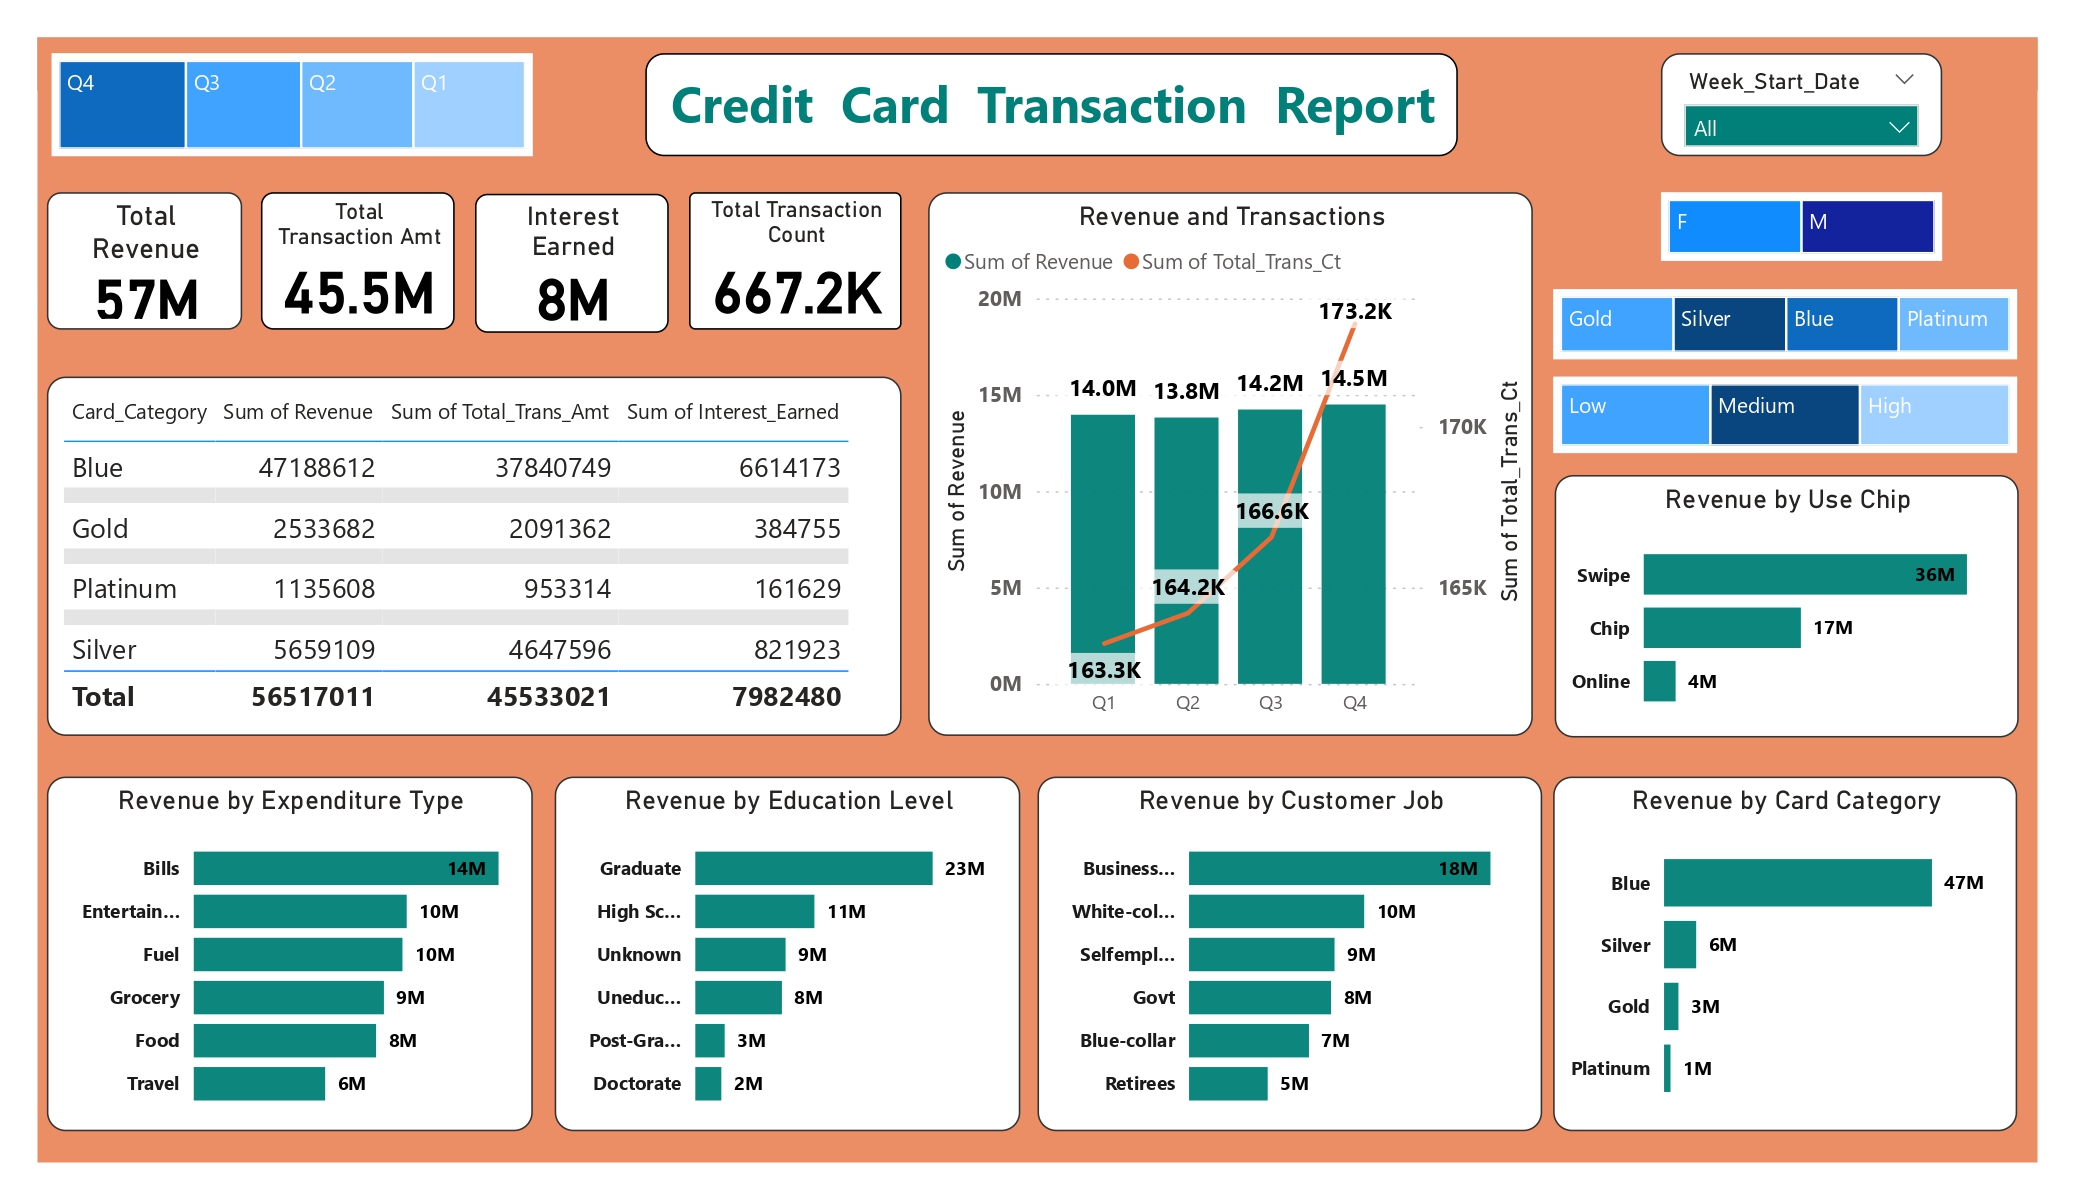

This screenshot's page, from the dashboard's own definition file:
{"tool":"powerbi","page":{"name":"CC Transaction","canvas":[1280,720],"ordinal":1},"visuals":[{"type":"textbox","box":[388.6,10,520,65.7],"z":0},{"type":"lineStackedColumnComboChart","title":"Revenue and Transactions","fields":{"Category":["cc_detail.Qtr"],"Y":["Sum(cc_detail.Revenue)"],"Y2":["Sum(cc_detail.Total_Trans_Ct)"]},"box":[570,98.6,387.1,348.6],"z":1000},{"type":"barChart","title":"Revenue by Expenditure Type","fields":{"Y":["Sum(cc_detail.Revenue)"],"Category":["cc_detail.Exp_Type"]},"box":[5.7,472.9,311.4,227.1],"z":2000},{"type":"barChart","title":"Revenue by Education Level","fields":{"Y":["Sum(cc_detail.Revenue)"],"Category":["cust_detail.Education_Level"]},"box":[331.4,472.9,297.1,227.1],"z":3000},{"type":"barChart","title":"Revenue by Customer Job","fields":{"Y":["Sum(cc_detail.Revenue)"],"Category":["cust_detail.Customer_Job"]},"box":[640,472.9,322.9,227.1],"z":4000},{"type":"barChart","title":"Revenue by Card Category","fields":{"Y":["Sum(cc_detail.Revenue)"],"Category":["cc_detail.Card_Category"]},"box":[970,472.9,297.1,227.1],"z":5000},{"type":"barChart","title":"Revenue by Use Chip","fields":{"Y":["Sum(cc_detail.Revenue)"],"Category":["cc_detail.Use_Chip"]},"box":[970.8,280,296.9,167.7],"z":6000},{"type":"tableEx","fields":{"Values":["cc_detail.Card_Category","Sum(cc_detail.Revenue)","Sum(cc_detail.Total_Trans_Amt)","Sum(cc_detail.Interest_Earned)"]},"box":[5.7,217.1,547.1,230],"z":7000},{"type":"card","title":"Total Revenue","fields":{"Values":["Sum(cc_detail.Revenue)"]},"box":[5.7,98.6,125.7,88.6],"z":8000},{"type":"card","title":"Total Transaction Amt","fields":{"Values":["Sum(cc_detail.Total_Trans_Amt)"]},"box":[142.9,98.6,124.3,88.6],"z":9000},{"type":"card","title":"Interest Earned","fields":{"Values":["Sum(cc_detail.Interest_Earned)"]},"box":[280,100,124.3,88.6],"z":10000},{"type":"card","title":"Total Transaction Count","fields":{"Values":["Sum(cc_detail.Total_Trans_Ct)"]},"box":[417.1,98.6,135.7,88.6],"z":11000},{"type":"slicer","fields":{"Values":["cc_detail.Week_Start_Date"]},"box":[1038.6,10,180,65.7],"z":12000},{"type":"treemap","fields":{"Group":["cc_detail.Qtr"],"Values":["Avg(cc_detail.Client_Num)"]},"box":[8.6,10,308.6,65.7],"z":13000},{"type":"treemap","fields":{"Group":["cust_detail.Gender"],"Values":["Avg(cc_detail.Client_Num)"]},"box":[1038.6,98.6,180,44.3],"z":14000},{"type":"treemap","fields":{"Group":["cc_detail.Card_Category"],"Values":["Avg(cc_detail.Client_Num)"]},"box":[970,161.4,297.1,44.3],"z":15000},{"type":"treemap","fields":{"Group":["cust_detail.IncomeGroup"],"Values":["Avg(cc_detail.Client_Num)"]},"box":[970,217.1,297.1,48.6],"z":16000}]}

Visuals, with their boxes in screenshot pixels (x1, y1, x2, y2):
textbox: (x1=645, y1=53, x2=1457, y2=156)
"Revenue and Transactions" lineStackedColumnComboChart: (x1=928, y1=192, x2=1533, y2=736)
"Revenue by Expenditure Type" barChart: (x1=46, y1=776, x2=533, y2=1131)
"Revenue by Education Level" barChart: (x1=555, y1=776, x2=1020, y2=1131)
"Revenue by Customer Job" barChart: (x1=1038, y1=776, x2=1542, y2=1131)
"Revenue by Card Category" barChart: (x1=1553, y1=776, x2=2017, y2=1131)
"Revenue by Use Chip" barChart: (x1=1554, y1=475, x2=2018, y2=737)
tableEx - cc_detail.Card_Category x Sum(cc_detail.Revenue): (x1=46, y1=377, x2=901, y2=736)
"Total Revenue" card: (x1=46, y1=192, x2=243, y2=330)
"Total Transaction Amt" card: (x1=261, y1=192, x2=455, y2=330)
"Interest Earned" card: (x1=475, y1=194, x2=669, y2=332)
"Total Transaction Count" card: (x1=689, y1=192, x2=901, y2=330)
slicer - cc_detail.Week_Start_Date: (x1=1660, y1=53, x2=1942, y2=156)
treemap - cc_detail.Qtr x Avg(cc_detail.Client_Num): (x1=51, y1=53, x2=533, y2=156)
treemap - cust_detail.Gender x Avg(cc_detail.Client_Num): (x1=1660, y1=192, x2=1942, y2=261)
treemap - cc_detail.Card_Category x Avg(cc_detail.Client_Num): (x1=1553, y1=290, x2=2017, y2=359)
treemap - cust_detail.IncomeGroup x Avg(cc_detail.Client_Num): (x1=1553, y1=377, x2=2017, y2=453)
